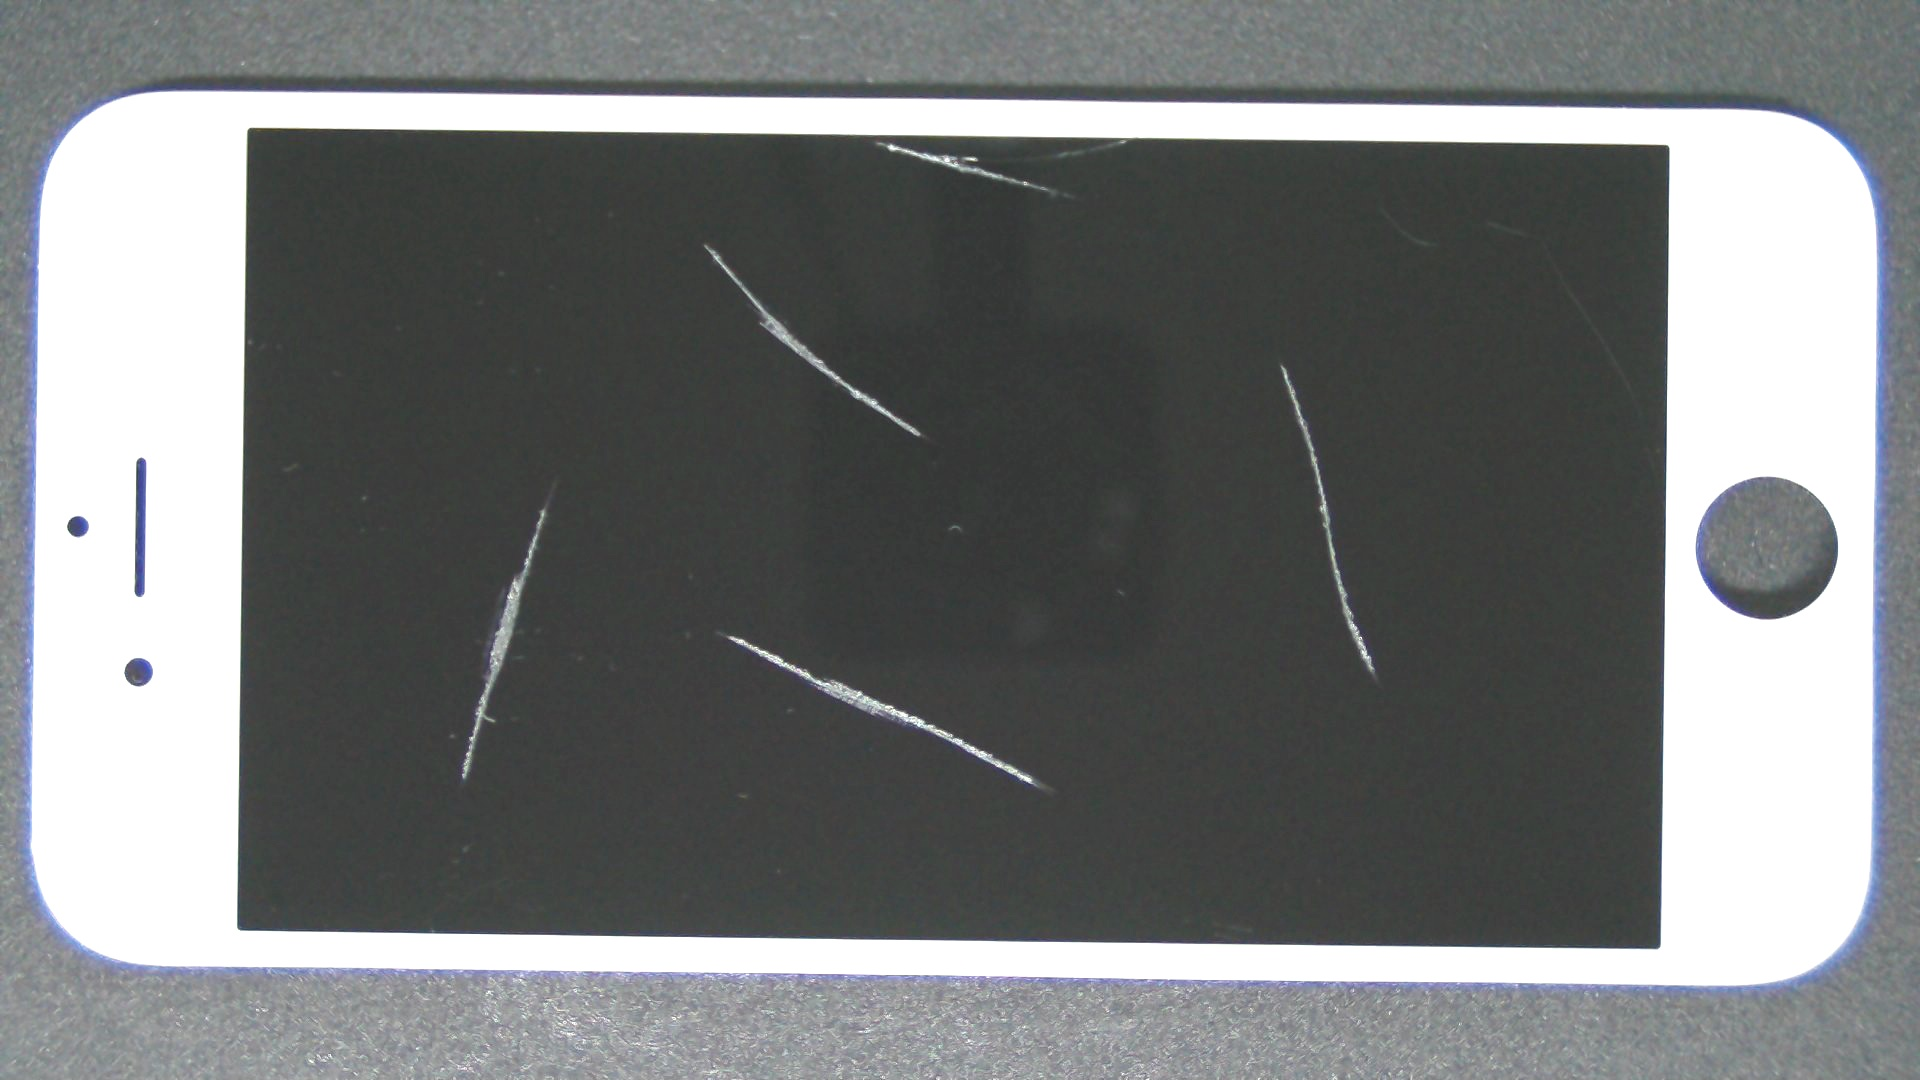oil: (640, 181, 1919, 547), (357, 314, 1083, 952), (272, 253, 814, 762), (352, 120, 1055, 367), (440, 70, 1316, 212)
